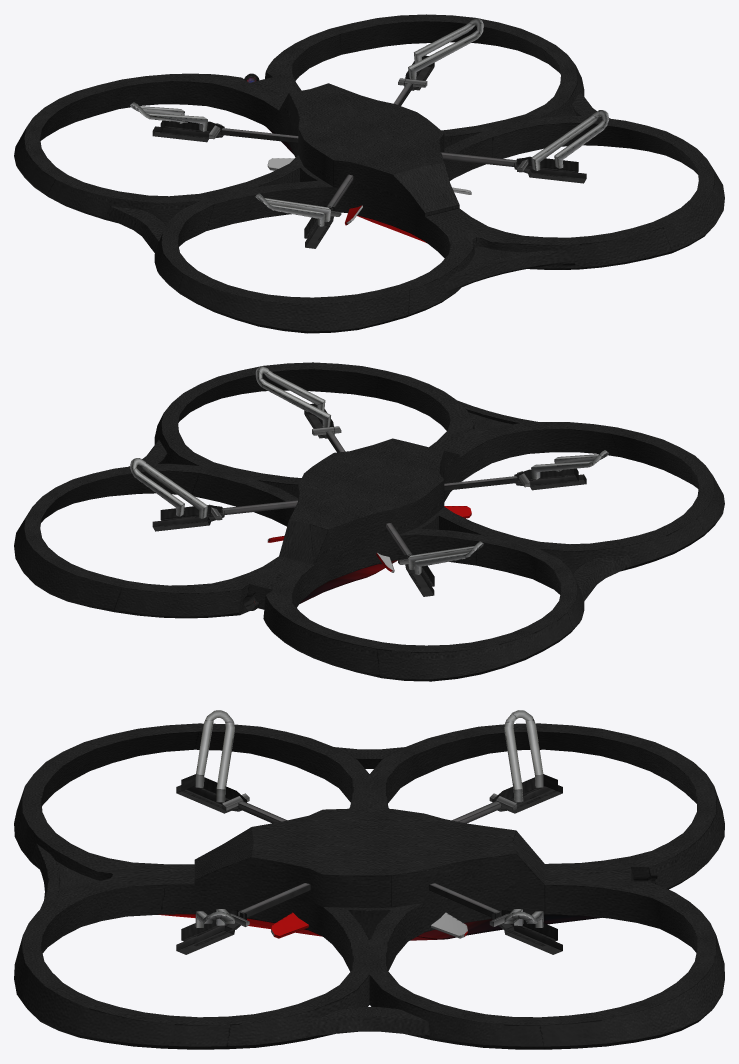
The model's file is drone.obj.
3 renders of one model, top to bottom at view 1: azimuth 30°, elevation 25°; view 2: azimuth 150°, elevation 25°; view 3: azimuth 270°, elevation 25°, orthographic. The views are drawn at different scales.
Visible parts, largest first — view 1: Body_Untitled.003; view 2: Body_Untitled.003; view 3: Body_Untitled.003.
Part boxes in pixels (x1,y1,x2,y2): Body_Untitled.003: [14, 14, 724, 333]; Body_Untitled.003: [14, 362, 724, 681]; Body_Untitled.003: [14, 710, 724, 1049].
Bounding box in the file's own units: 6.49 × 1.16 × 6.28.
1 material, 1 textured.
